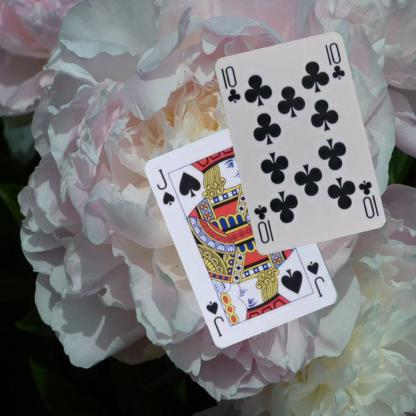10c: (356, 176, 376, 219), (222, 63, 242, 105)
Js: (154, 166, 177, 207), (304, 258, 326, 300)
